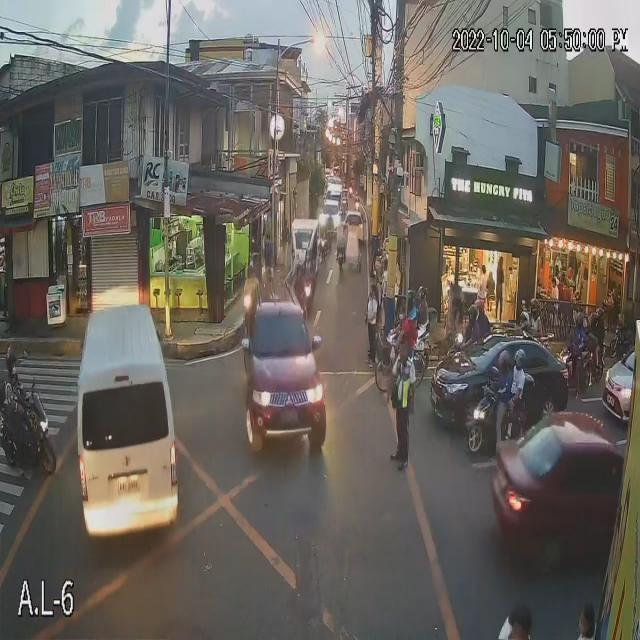helmet: (2, 348, 25, 376), (510, 345, 531, 372), (496, 346, 513, 372), (531, 296, 544, 319), (517, 311, 530, 333), (404, 290, 418, 308), (478, 295, 490, 314), (417, 284, 433, 297), (573, 313, 584, 331), (465, 304, 477, 318), (598, 305, 607, 322), (590, 312, 596, 329)
motorcycle: (462, 387, 537, 456), (0, 389, 52, 481), (559, 341, 599, 387)
rider: (1, 339, 30, 423), (487, 348, 516, 414), (507, 345, 535, 402), (563, 309, 585, 363), (400, 287, 420, 337), (417, 279, 436, 330), (464, 296, 479, 348), (478, 289, 493, 339), (531, 292, 544, 340), (595, 301, 610, 341), (515, 305, 531, 342), (588, 312, 597, 350)
